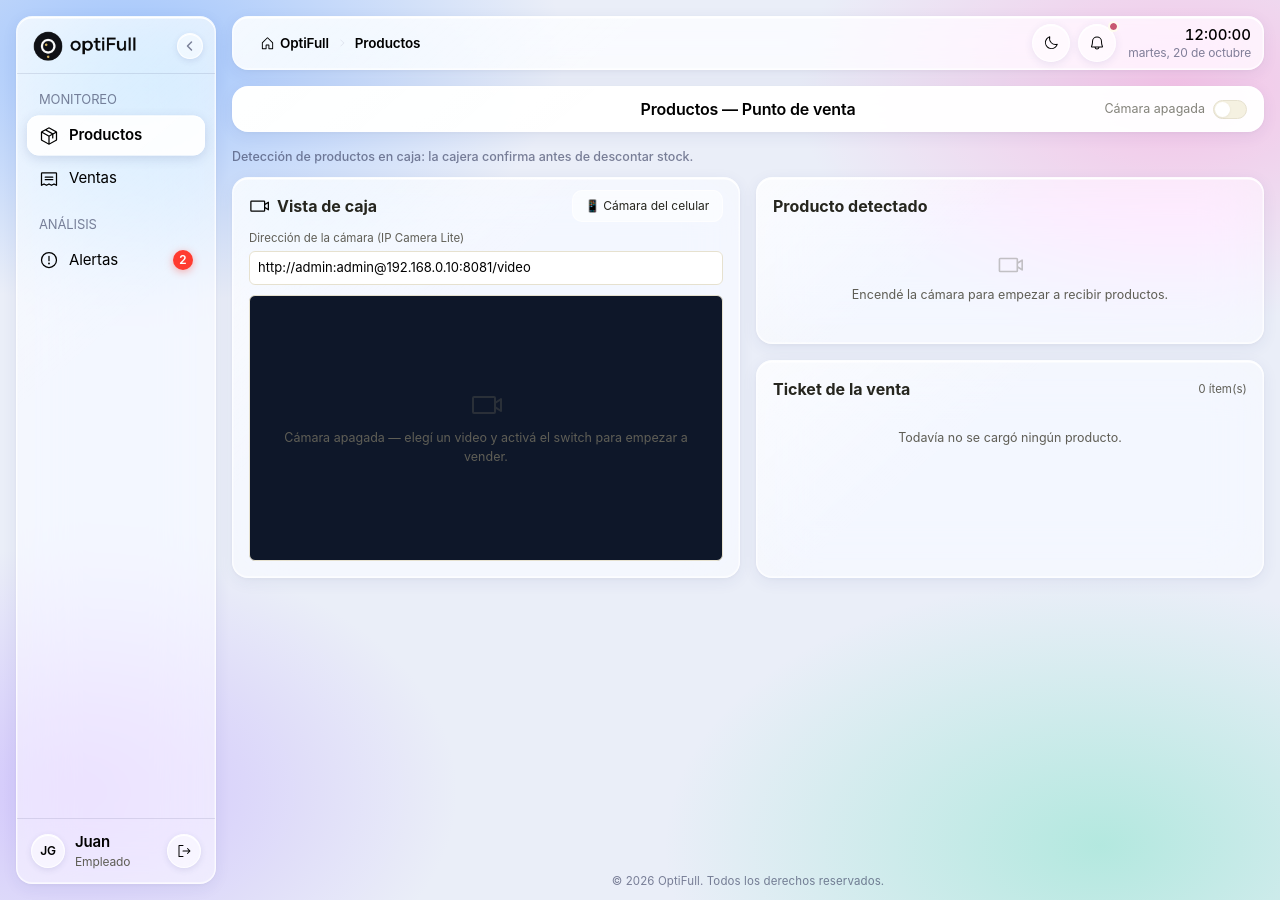
permisos por rol › el empleado puede ir a Alertas
The width and height of the screenshot is (1280, 900).
What coordinates should you click on to do the following:
click the text "Alertas"
I would click on:
 (94, 259)
Its box is left=69, top=250, right=118, bottom=269.
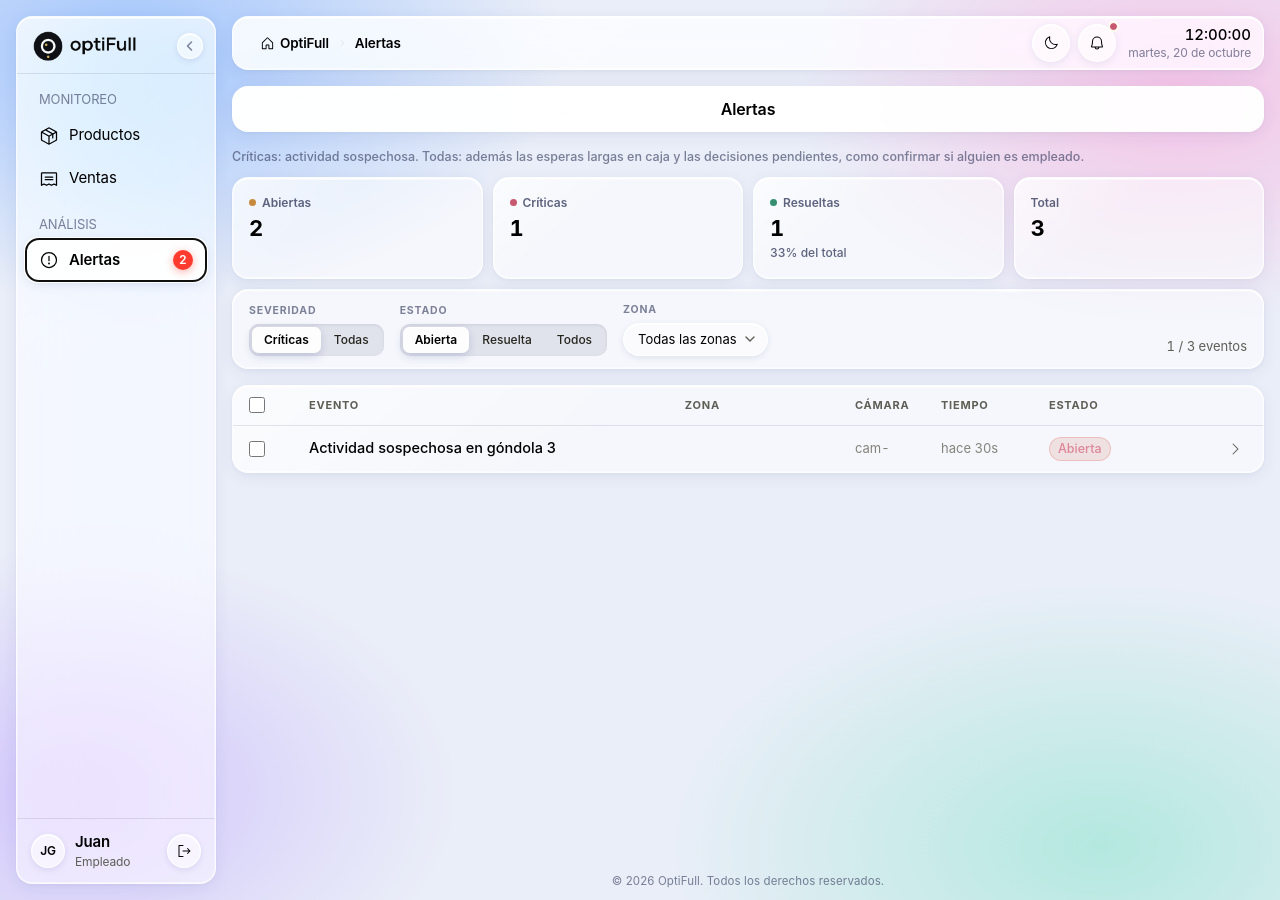
Check: the 1st text "Alertas" is shown, box left=355, top=35, right=401, bottom=51
